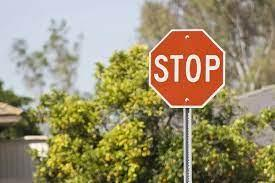Pole: (183, 109, 192, 182)
Sign: (150, 28, 224, 107)
